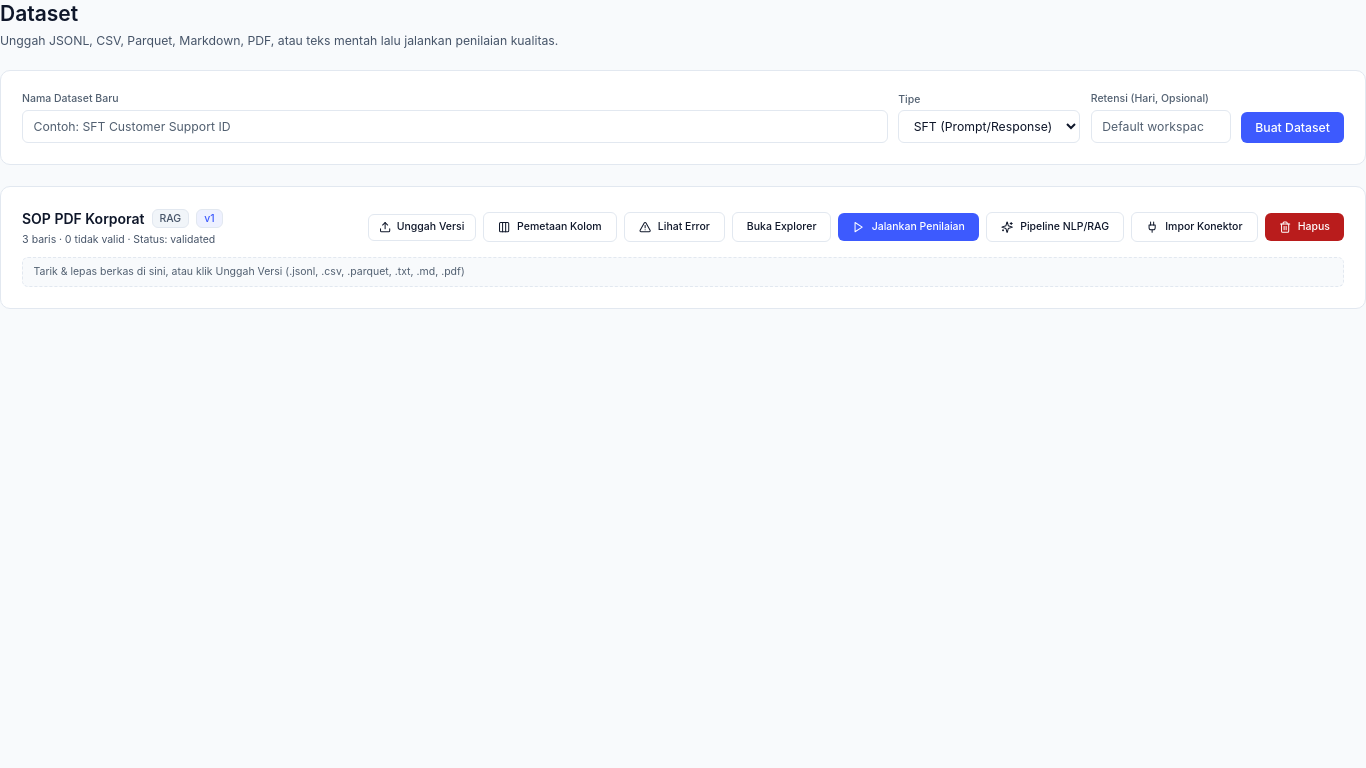
Test: NLP Linguistic, VLM PDF, Semantic Chunking & QA/SFT UI › supports Pipeline NLP/RAG modal tabs for VLM verification, semantic chunking, and QA/SFT
Click the button "Pipeline NLP/RAG": click(1055, 227) [986, 212, 1124, 242]
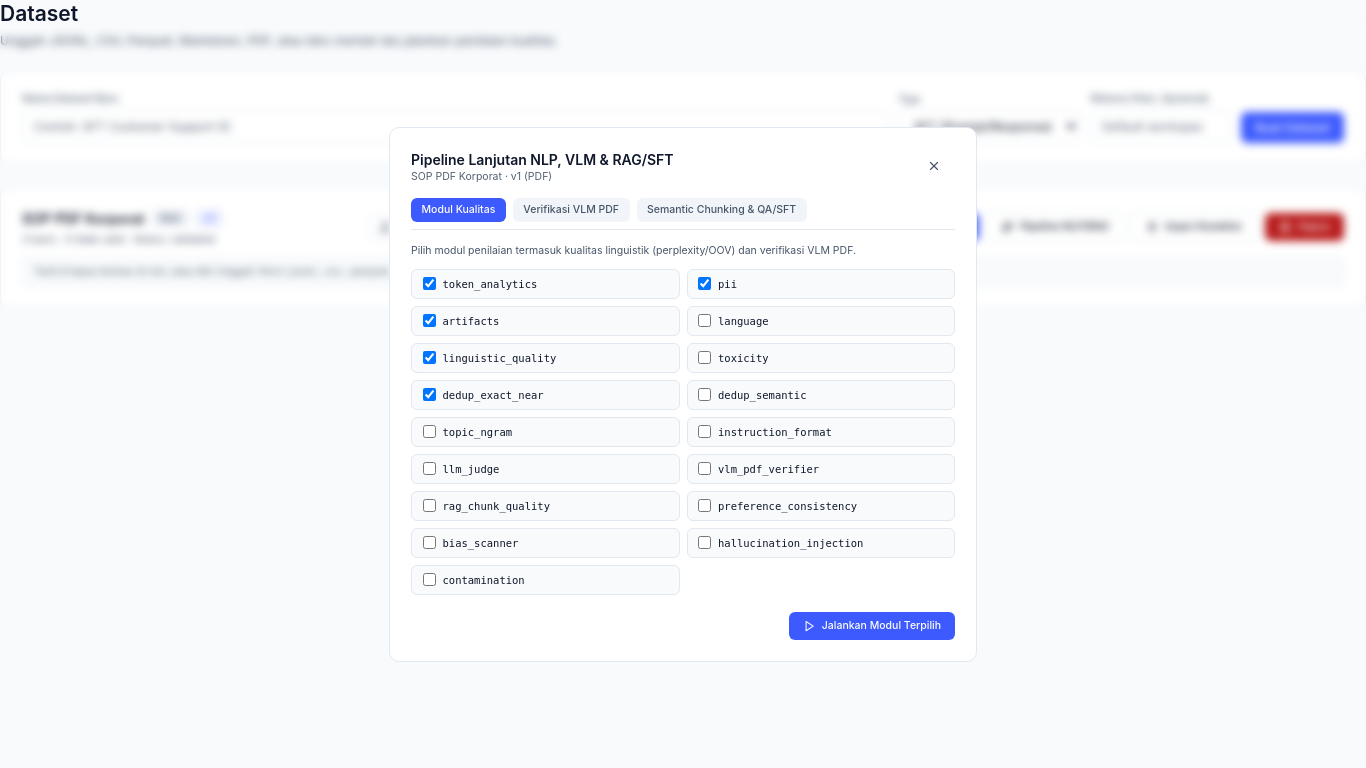
Expected: the dialog "Pipeline Lanjutan NLP, VLM & RAG/SFT" is shown, [389, 127, 977, 662]
Note: Tab 2: VLM PDF Verification
Click the tab "Verifikasi VLM PDF": click(571, 210) [513, 198, 630, 222]
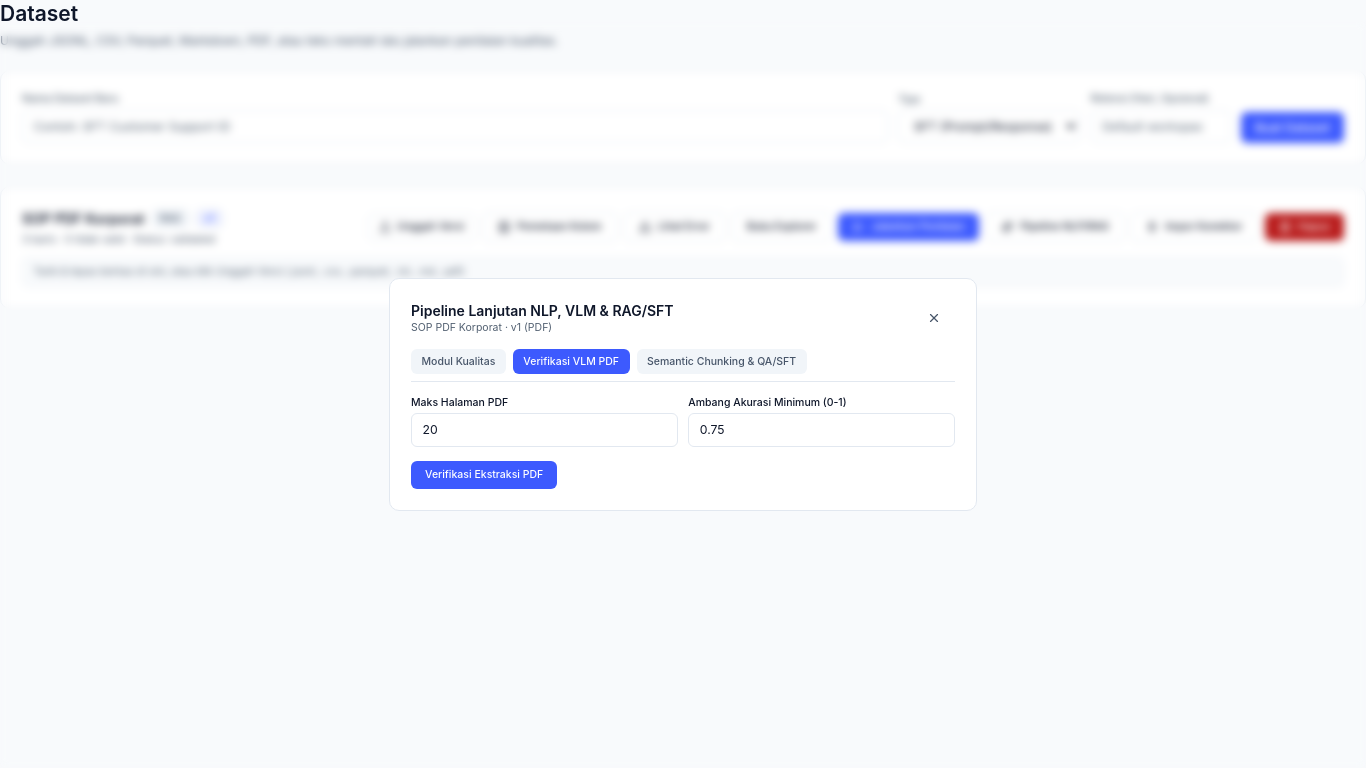
Click the button "Verifikasi Ekstraksi PDF": click(484, 475) [411, 461, 557, 489]
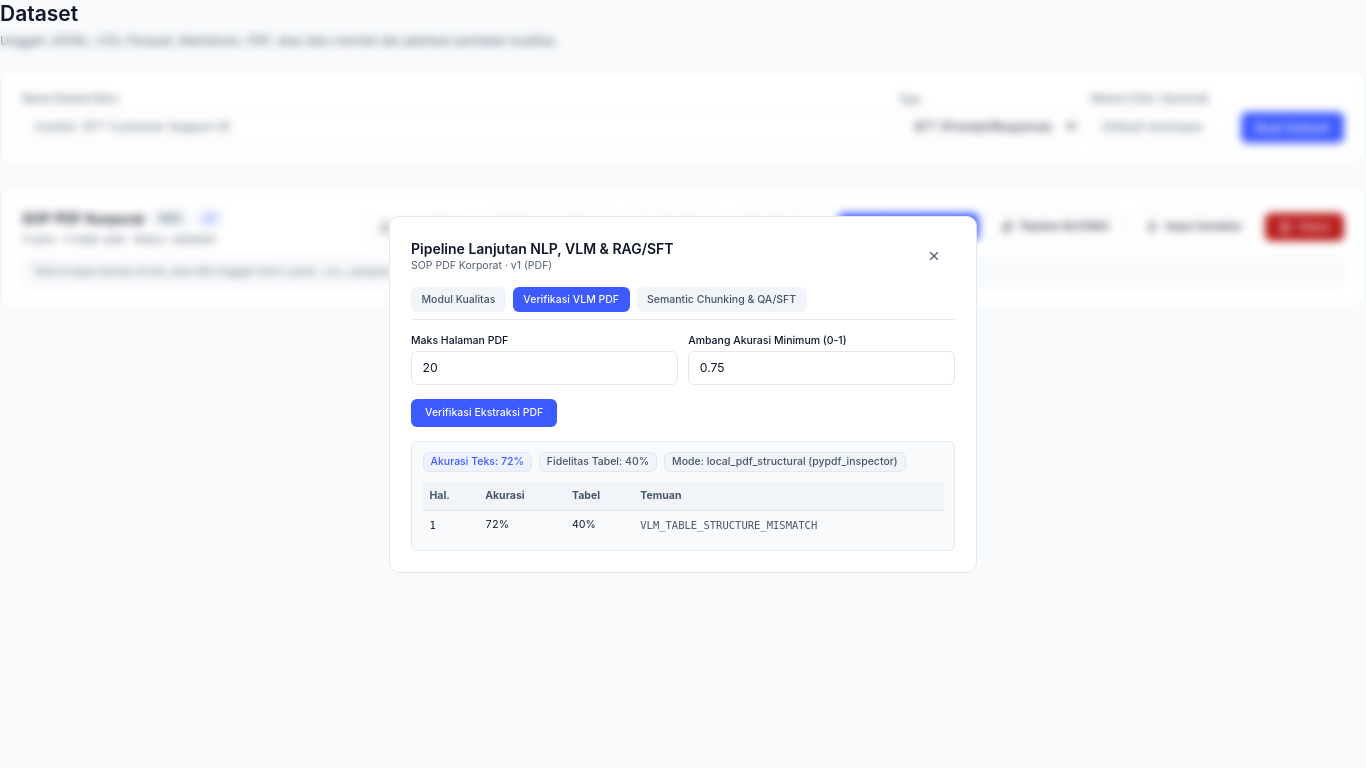
Expected: the text "VLM_TABLE_STRUCTURE_MISMATCH" is shown, [633, 511, 944, 539]
Note: Tab 3: Semantic Chunking & QA/SFT
Click the tab "Semantic Chunking & QA/SFT": click(722, 300) [637, 287, 807, 312]
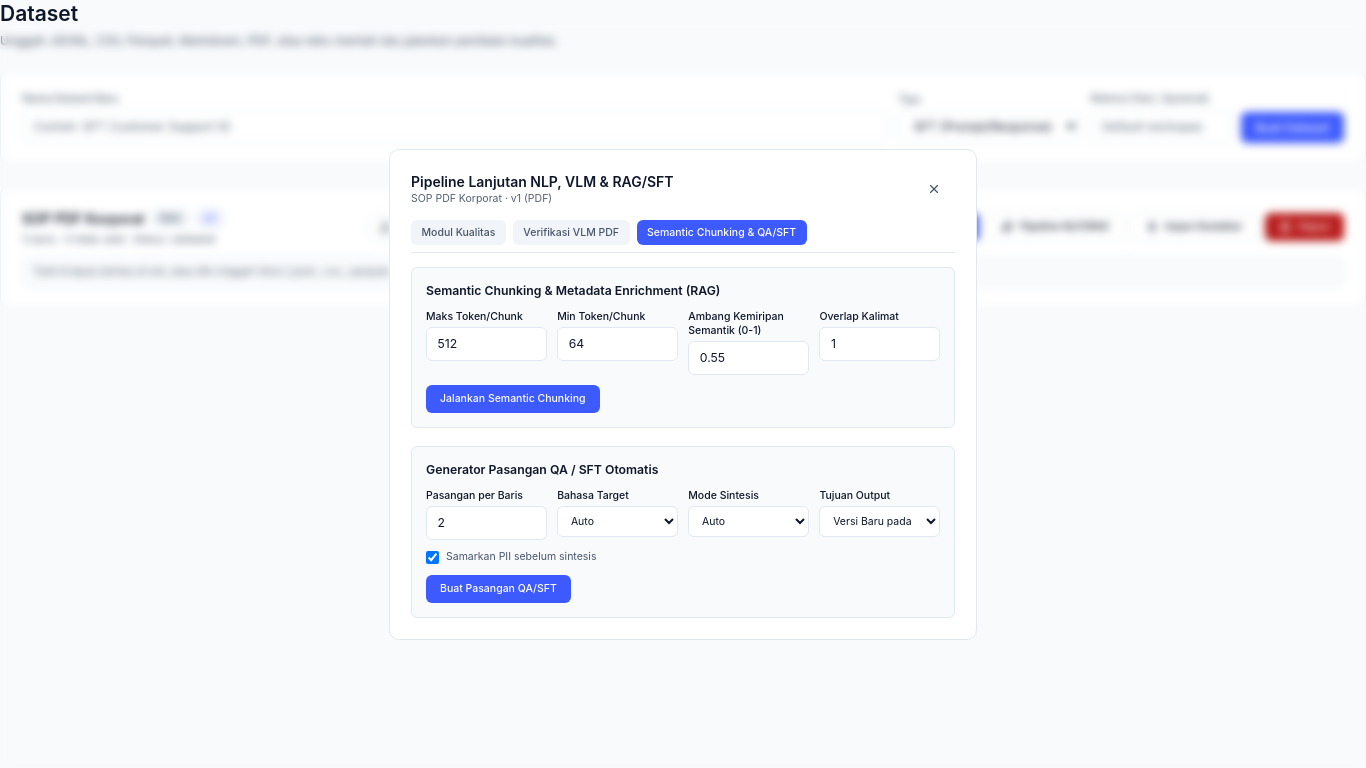
Click the button "Jalankan Semantic Chunking": click(513, 399) [426, 385, 600, 413]
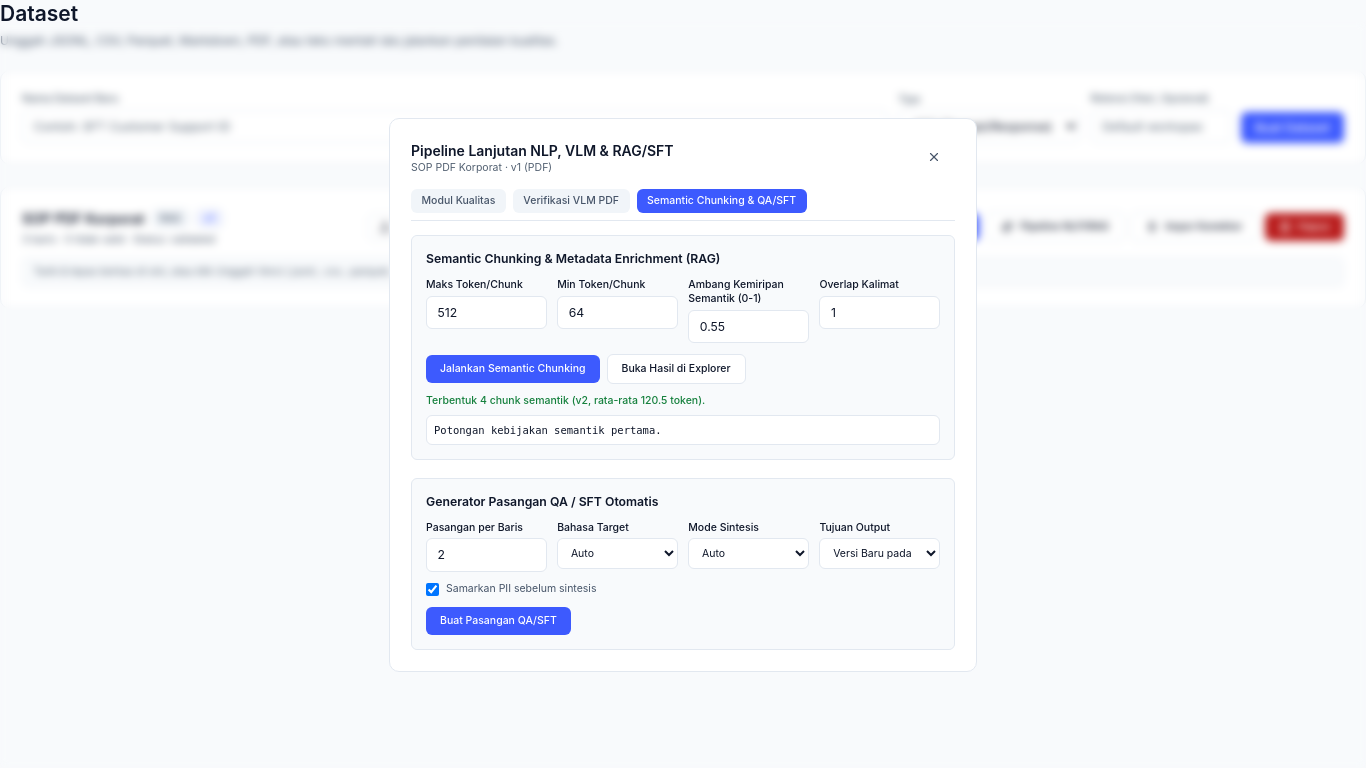
Expected: the text "Terbentuk 4 chunk semantik (v2, rata-rata 120.5 token)." is shown, [426, 394, 705, 407]
Click the button "Buat Pasangan QA/SFT": click(498, 620) [426, 606, 571, 634]
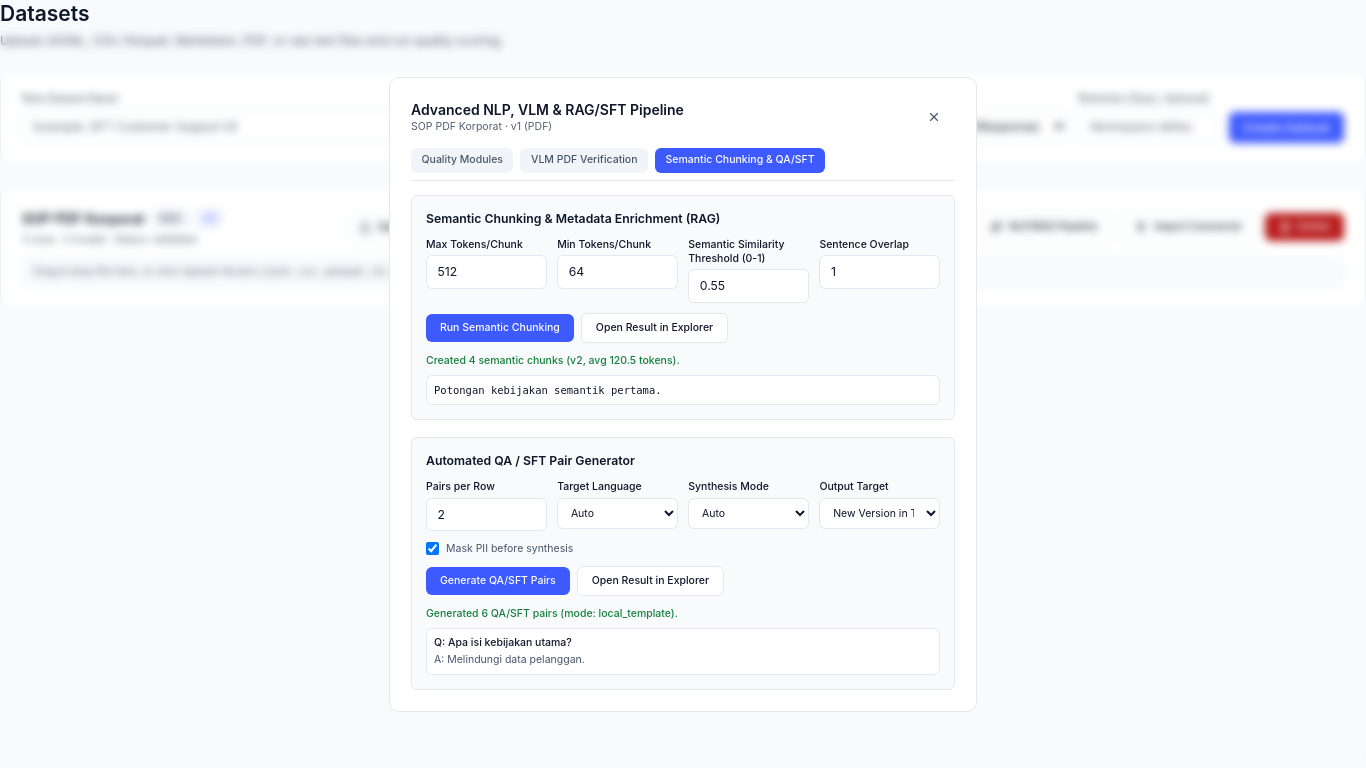
Expected: the text "Berhasil menghasilkan 6 pasangan QA/SFT" is shown, [426, 606, 678, 620]
Expected: the tab "VLM PDF Verification" is shown, [520, 148, 648, 172]
